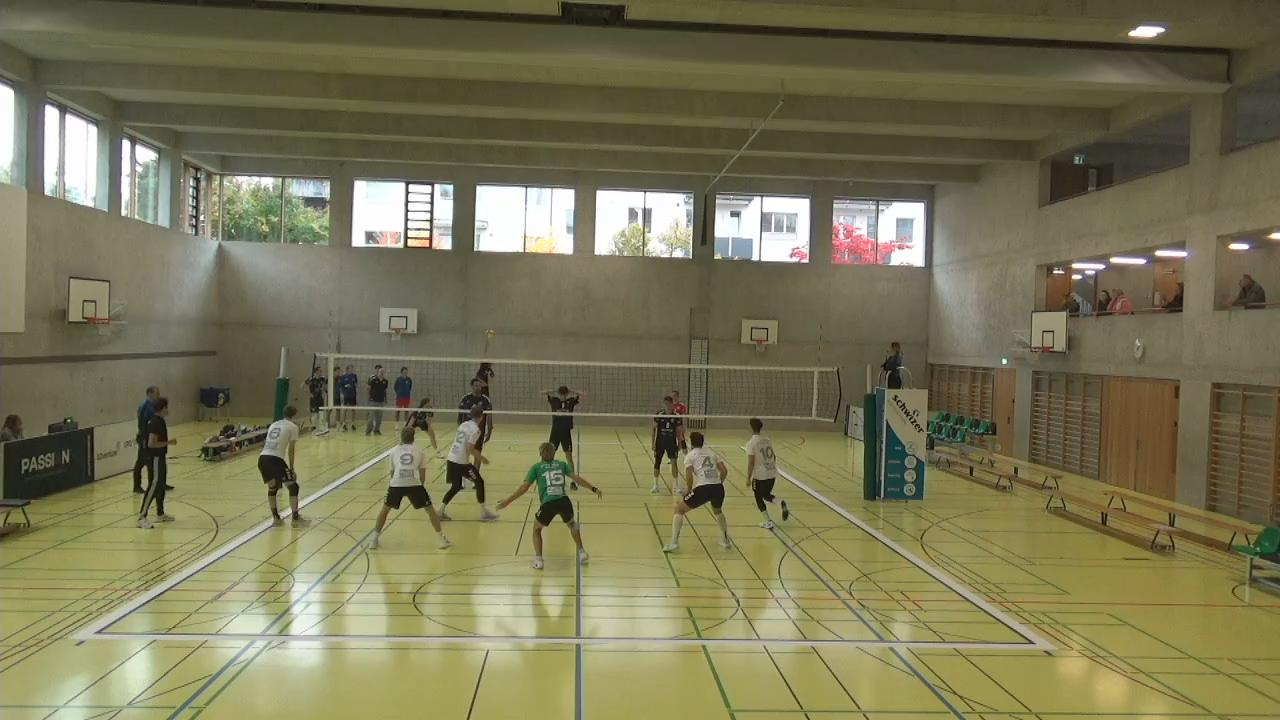Player: (499, 438, 600, 570), (367, 421, 450, 550), (661, 430, 735, 554), (439, 405, 496, 521), (255, 407, 307, 527), (742, 417, 792, 527), (542, 381, 582, 475), (649, 403, 683, 496), (399, 395, 443, 459), (470, 376, 497, 462), (668, 388, 690, 462)
Serve: (469, 321, 499, 393)
ball: (481, 326, 494, 341)
